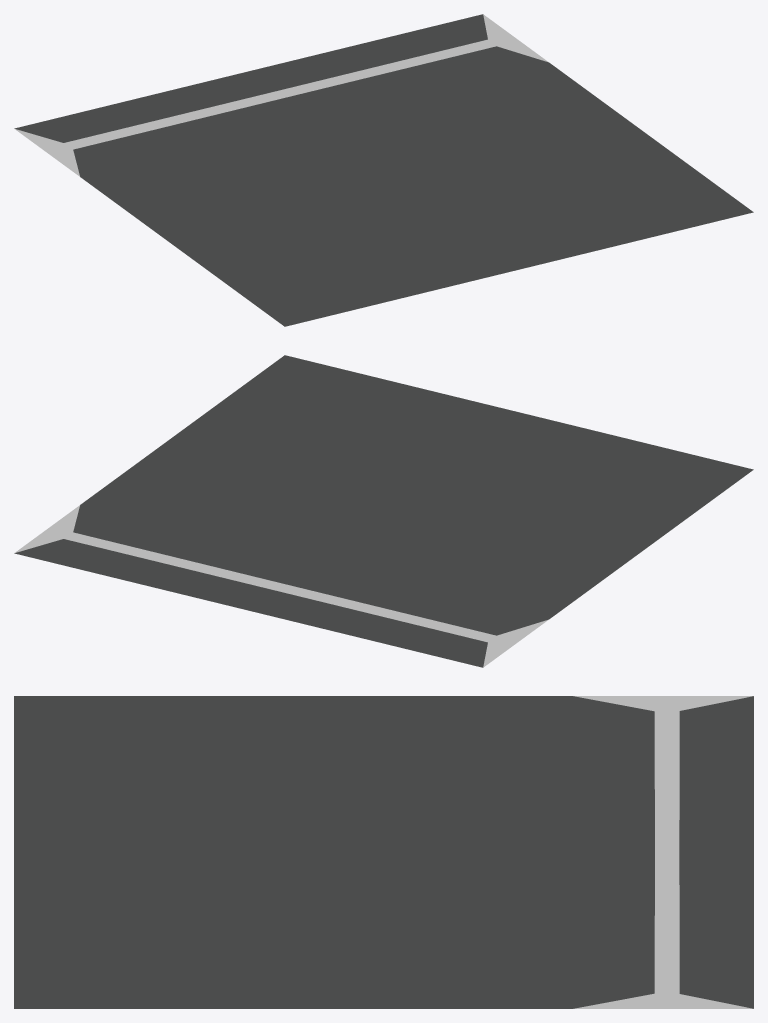
File: smallStreet_6.fbx
3 views of the same model, one above another, from view 1: azimuth 30°, elevation 25°; view 2: azimuth 150°, elevation 25°; view 3: azimuth 270°, elevation 25° (orthographic). The views are drawn at different scales.
Parts seen in each view (by area): view 1: smallStreet_6; view 2: smallStreet_6; view 3: smallStreet_6.
Part boxes in pixels (bbox=[...]): smallStreet_6: bbox=[14, 14, 753, 326]; smallStreet_6: bbox=[14, 355, 753, 667]; smallStreet_6: bbox=[14, 696, 753, 1008].
Bounding box in the file's own units: 375 × 0 × 375.
